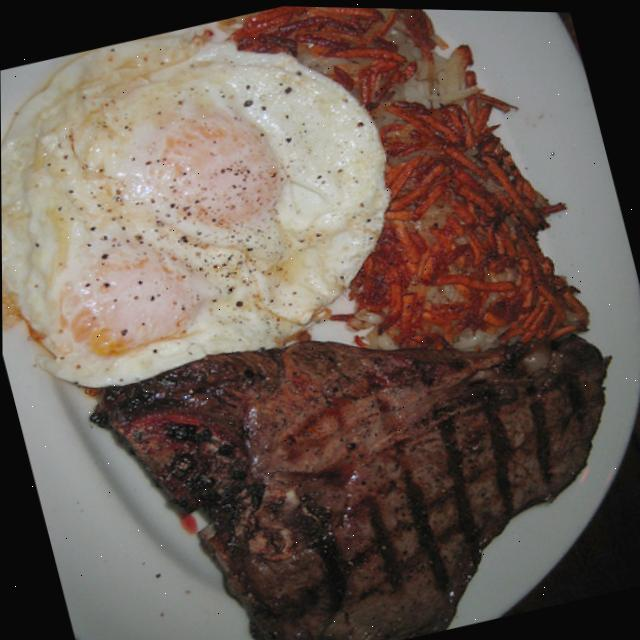牛肉菜式: (122, 295, 640, 640)
鸡蛋料理: (0, 0, 413, 389)
